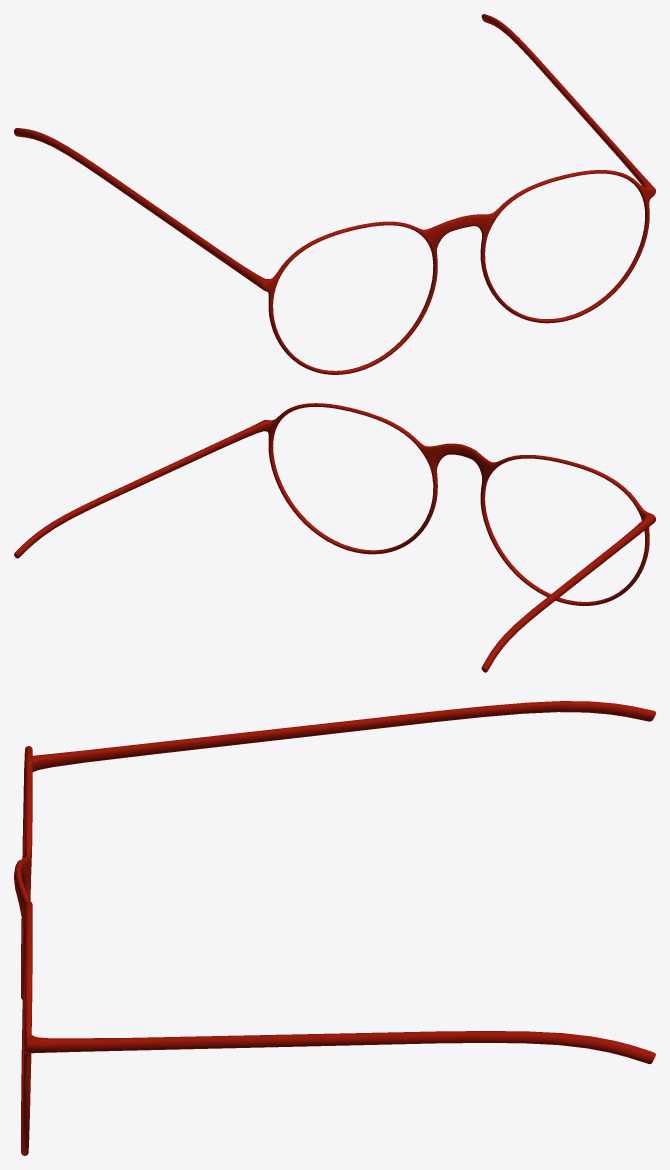
Rendered from eyewear-glasses-red-e7a5187c.glb.
3 renders of one model, top to bottom at view 1: azimuth 30°, elevation 25°; view 2: azimuth 150°, elevation 25°; view 3: azimuth 270°, elevation 25°, orthographic. The views are drawn at different scales.
Visible parts, largest first — view 1: Geo_Black_Older_Female_Glasses_Red.001; view 2: Geo_Black_Older_Female_Glasses_Red.001; view 3: Geo_Black_Older_Female_Glasses_Red.001.
Part boxes in pixels (bbox=[...]): Geo_Black_Older_Female_Glasses_Red.001: bbox=[14, 14, 655, 374]; Geo_Black_Older_Female_Glasses_Red.001: bbox=[14, 403, 655, 672]; Geo_Black_Older_Female_Glasses_Red.001: bbox=[14, 701, 655, 1155].
Size of the model in its own units: 1.54 by 0.448 by 1.21.
